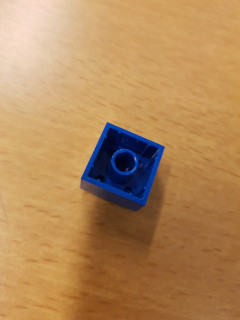2x2 blue: (78, 120, 166, 213)
